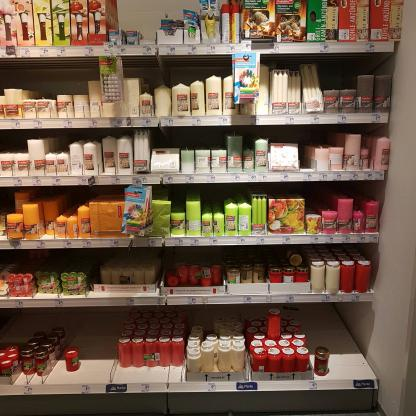Void: (325, 300, 372, 370), (77, 312, 116, 368), (176, 246, 288, 260), (141, 59, 197, 81), (154, 130, 226, 147), (7, 252, 99, 265), (6, 307, 61, 328), (118, 4, 156, 33), (24, 62, 53, 96), (324, 60, 351, 89), (60, 62, 85, 92), (4, 128, 29, 155), (305, 305, 321, 342), (356, 55, 390, 72), (86, 187, 126, 201), (310, 180, 330, 206), (62, 184, 76, 214), (300, 126, 311, 164), (205, 59, 230, 74), (2, 63, 20, 83), (318, 127, 336, 147), (50, 130, 65, 150), (354, 183, 374, 198), (338, 180, 348, 193)
